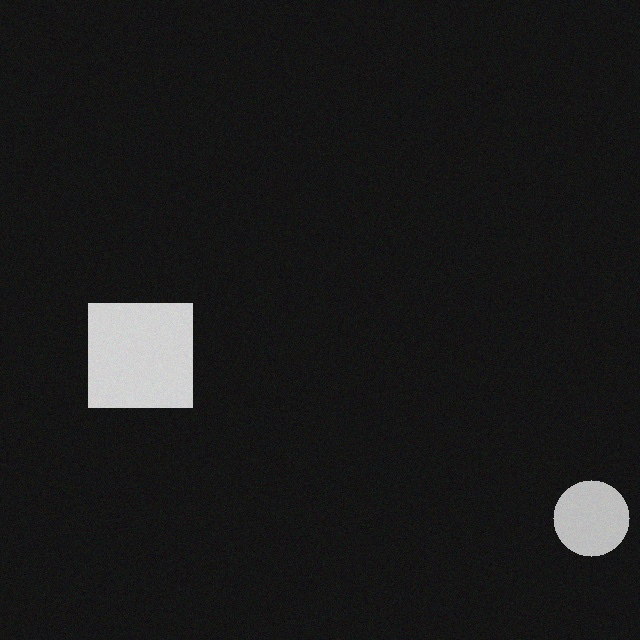circle: (543, 486, 619, 562)
square: (78, 309, 182, 413)
